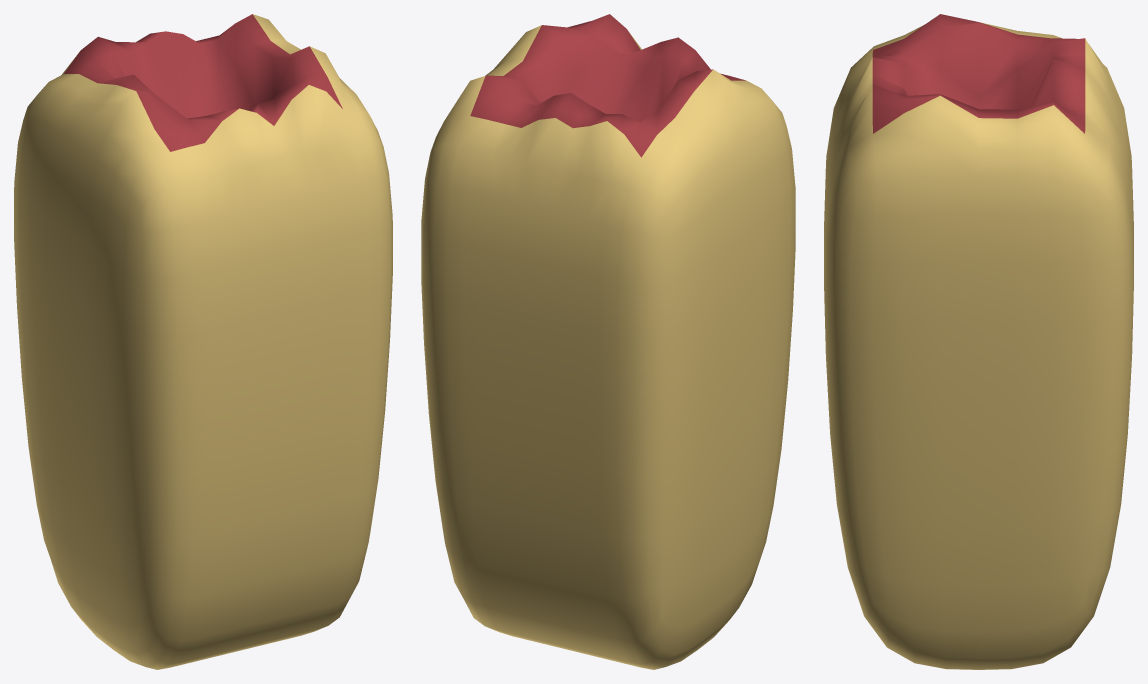
Rendered from LowerLeg_Dism.fbx.
The picture shows the model from 3 angles, left to right: view 1: azimuth 30°, elevation 25°; view 2: azimuth 150°, elevation 25°; view 3: azimuth 270°, elevation 25°; orthographic projection.
Parts seen in each view (by area): view 1: LowerLeg_L.001; view 2: LowerLeg_L.001; view 3: LowerLeg_L.001.
Boxes of the visible parts, left/top/right/bottom form: LowerLeg_L.001: left=14, top=14, right=392, bottom=669; LowerLeg_L.001: left=421, top=14, right=795, bottom=669; LowerLeg_L.001: left=824, top=14, right=1133, bottom=669.
Bounding box in the file's own units: 73.52 × 150 × 72.79.
